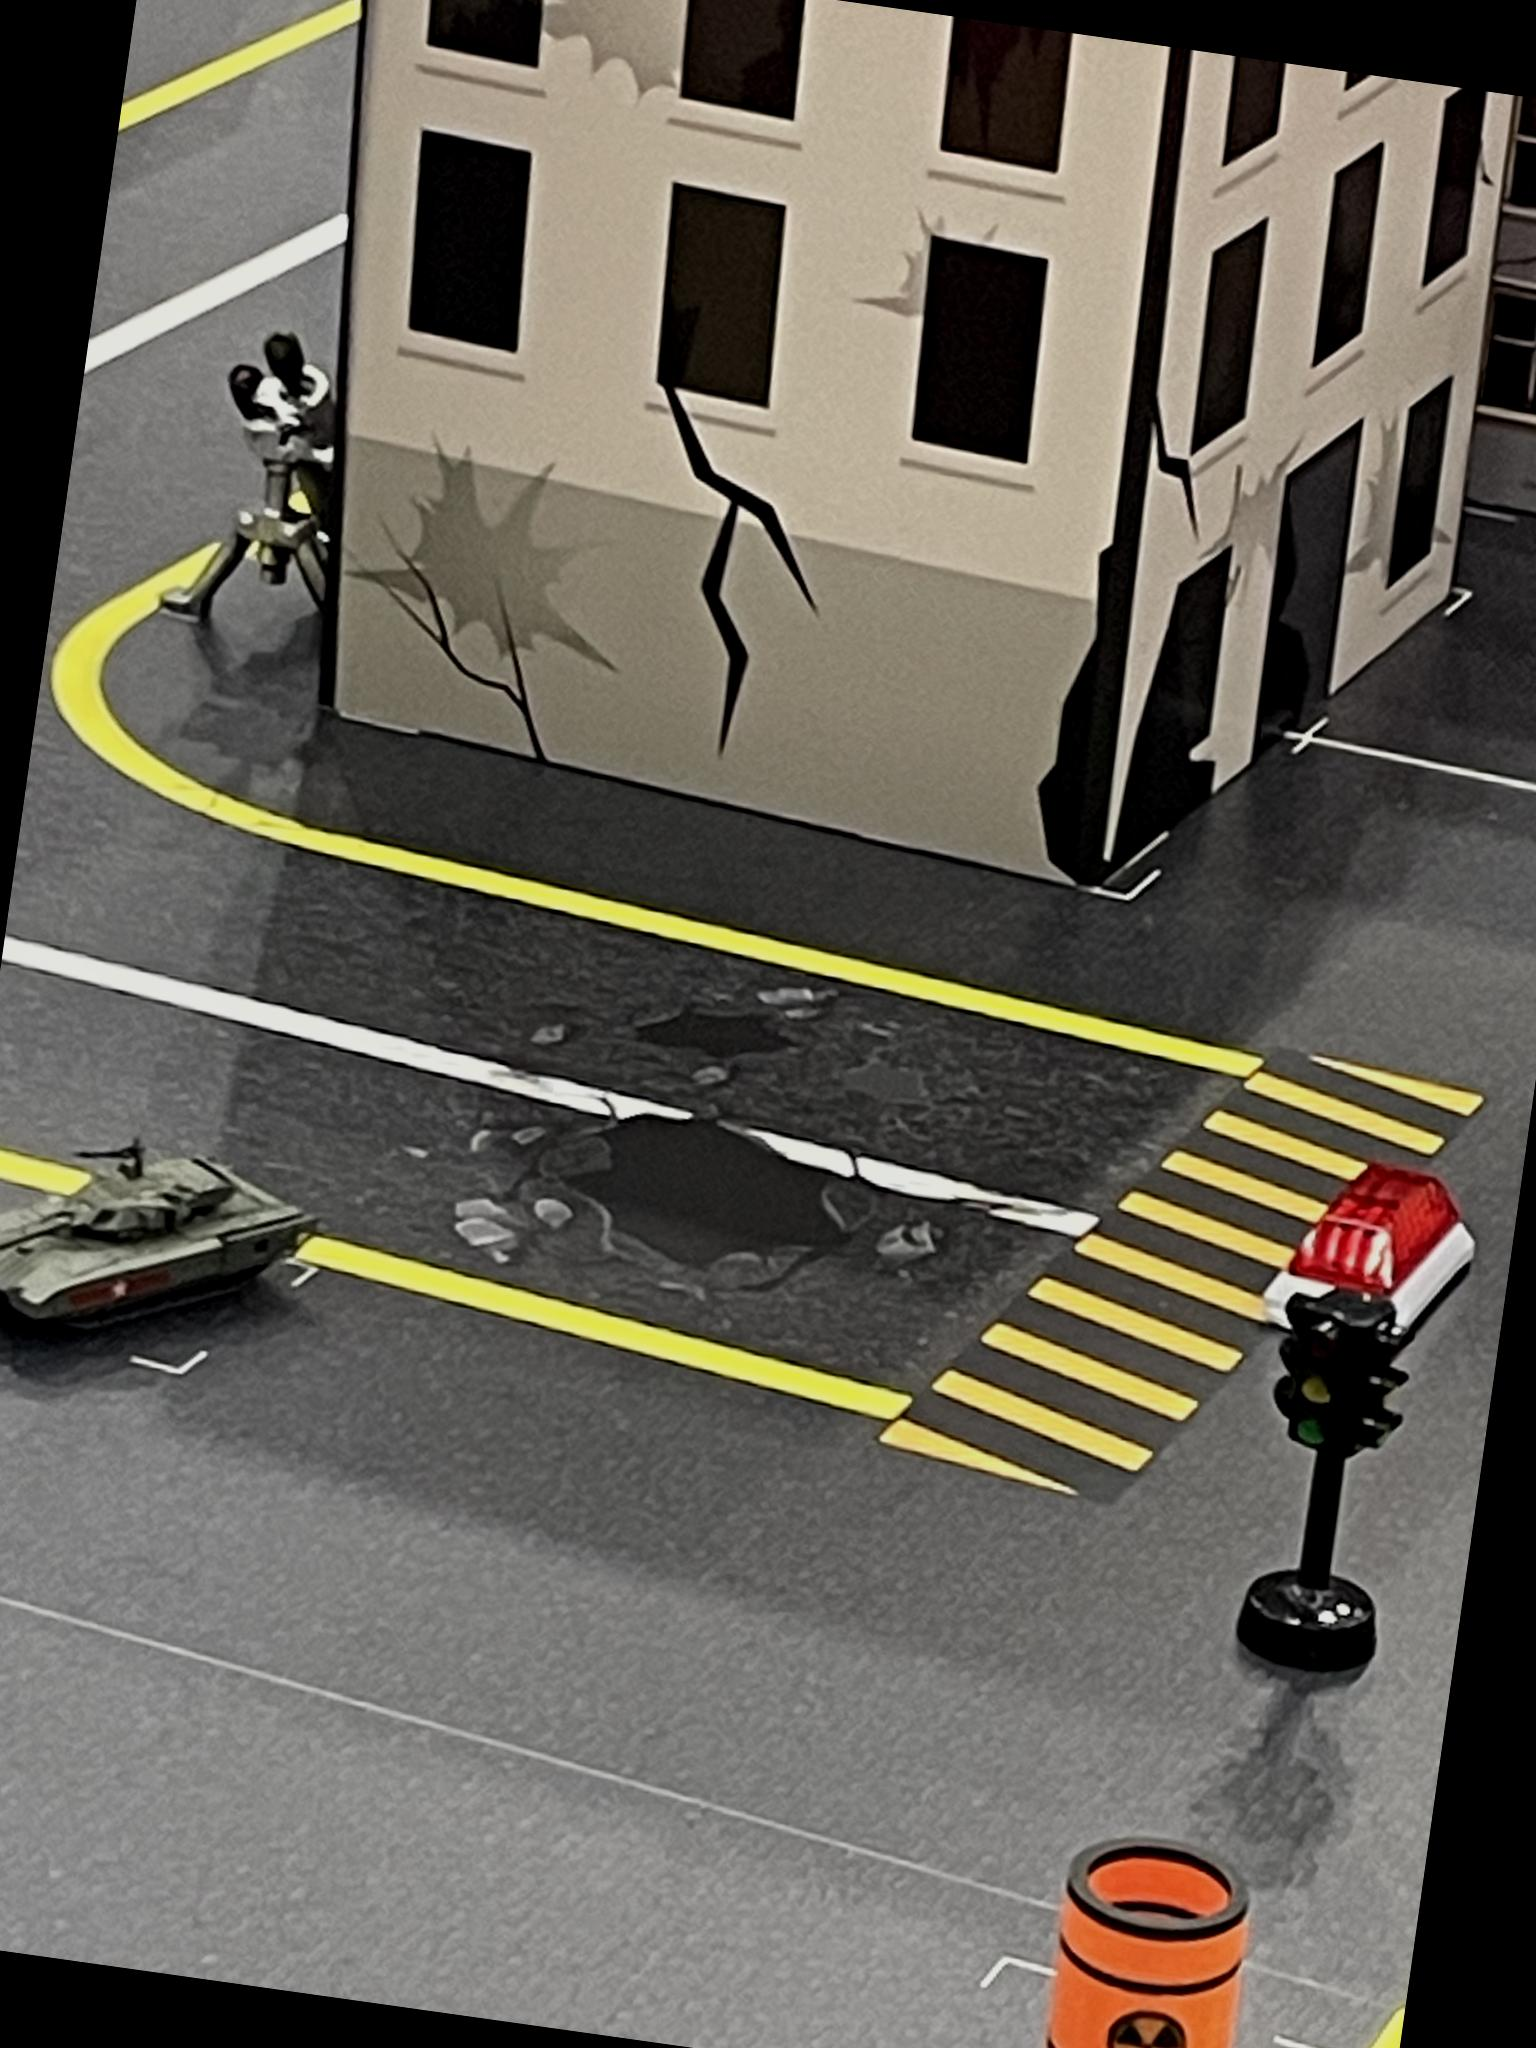Hazmat: (1034, 1816, 1279, 2048)
Mortar: (166, 318, 363, 645)
Tank: (0, 1103, 344, 1372)
